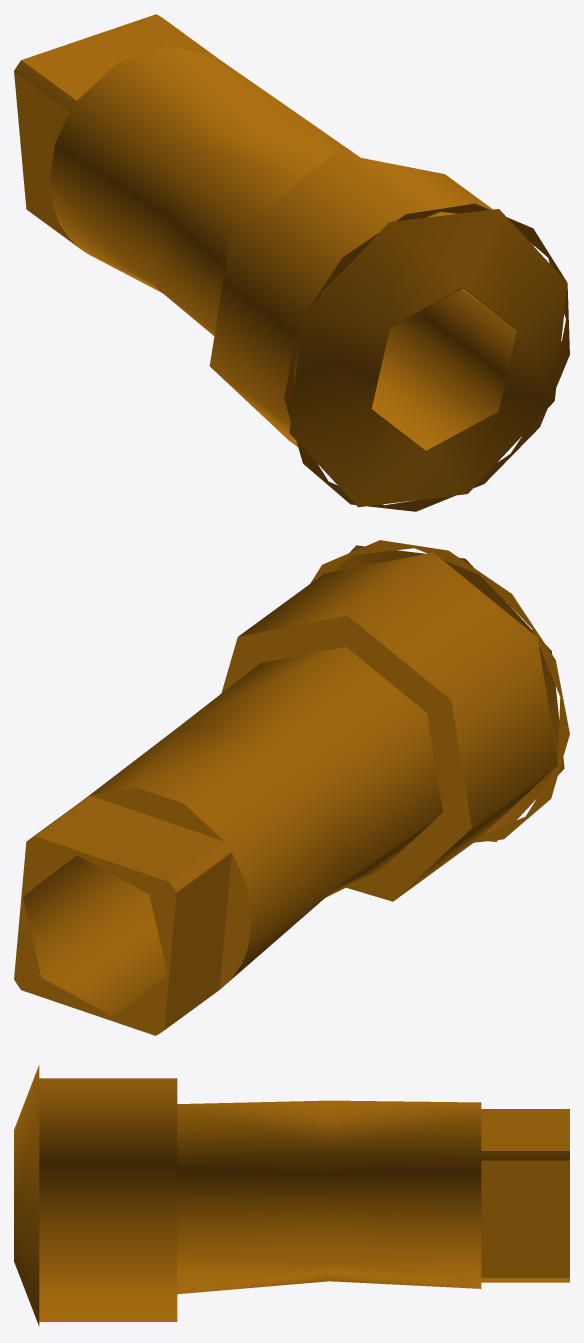
The model's file is Copie de Petit Axe Ass 08^Copie de Assemblage 08_Horloge Comtoise Verge - Sonnerie.obj.
3 renders of one model, top to bottom at view 1: azimuth 30°, elevation 25°; view 2: azimuth 150°, elevation 25°; view 3: azimuth 270°, elevation 25°, orthographic. The views are drawn at different scales.
Parts seen in each view (by area): view 1: Face_19, Face_4, Face_18, Face_1, Face_5, Face_6, Face_9, Face_10; view 2: Face_19, Face_18, Face_1, Face_20, Face_3, Face_5, Face_6, Face_9, Face_4, Face_14, Face_11, Face_10; view 3: Face_19, Face_18, Face_8, Face_4, Face_5, Face_12, Face_15.
Boxes of the visible parts, x1,y1,x2,y2 form: Face_19: [49, 46, 426, 335]; Face_4: [289, 209, 567, 507]; Face_18: [209, 152, 561, 462]; Face_1: [371, 288, 516, 450]; Face_5: [21, 14, 211, 100]; Face_6: [14, 71, 80, 248]; Face_9: [284, 203, 569, 511]; Face_10: [14, 60, 76, 111]; Face_19: [85, 646, 442, 986]; Face_18: [238, 552, 557, 901]; Face_1: [23, 855, 167, 1016]; Face_20: [221, 615, 471, 901]; Face_3: [14, 836, 176, 1035]; Face_5: [35, 796, 224, 881]; Face_6: [164, 852, 231, 1029]; Face_9: [310, 540, 569, 842]; Face_4: [333, 545, 564, 841]; Face_14: [219, 853, 251, 989]; Face_11: [90, 787, 223, 840]; Face_10: [169, 841, 231, 892]; Face_19: [177, 1100, 481, 1294]; Face_18: [39, 1078, 177, 1321]; Face_8: [481, 1160, 569, 1277]; Face_4: [14, 1065, 39, 1326]; Face_5: [481, 1109, 569, 1150]; Face_12: [481, 1151, 569, 1160]; Face_15: [481, 1278, 569, 1282].
Size of the model in its own units: 0.0104 by 0.0104 by 0.0219.
